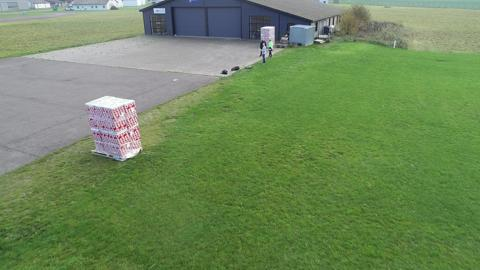RockwoolPallet: (260, 25, 276, 50)
